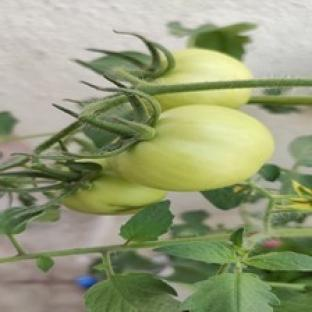Tomato: (109, 106, 274, 190), (63, 170, 165, 214), (158, 49, 252, 84)
